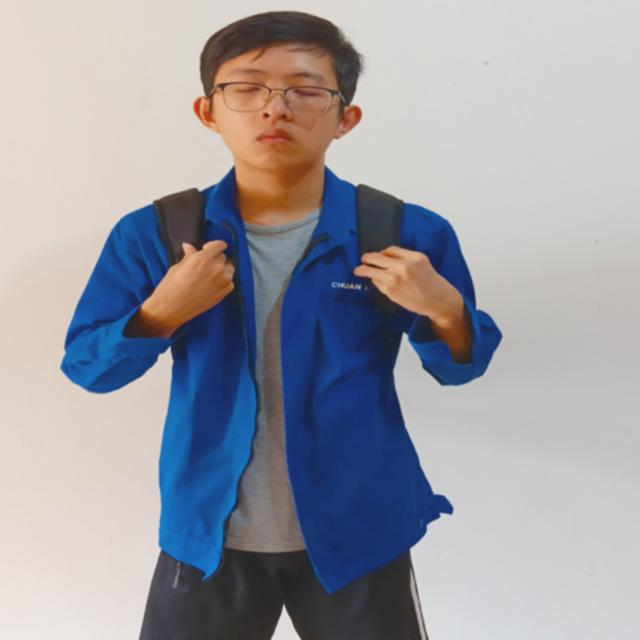person_with_labcoat: (61, 11, 501, 640)
